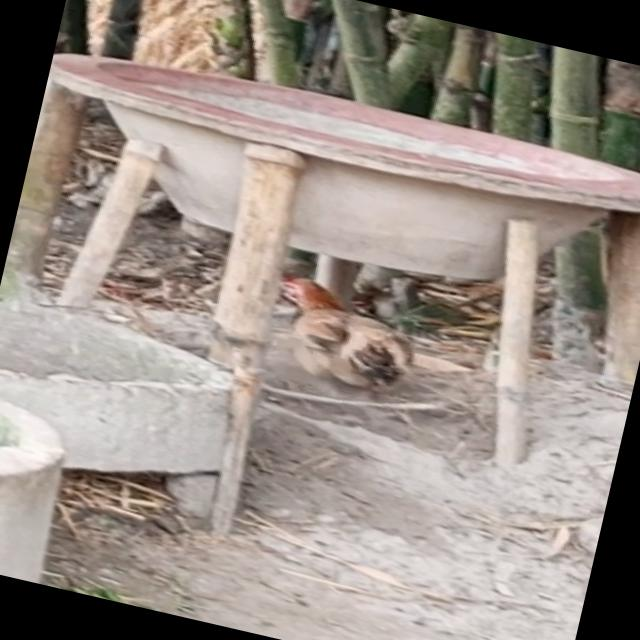stand bath: (217, 245, 485, 428)
